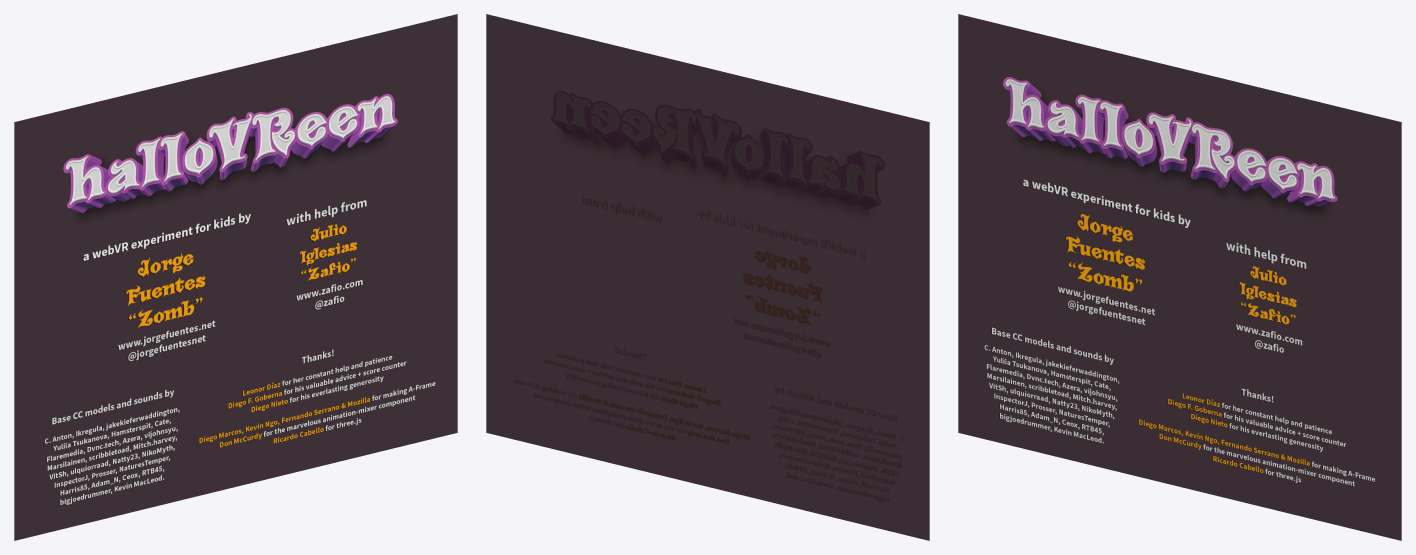
Rendered from ui_credits.gltf.
The picture shows the model from 3 angles, left to right: view 1: azimuth 30°, elevation 25°; view 2: azimuth 150°, elevation 25°; view 3: azimuth 330°, elevation 25°; orthographic projection.
Visible parts, largest first — view 1: Plane.002; view 2: Plane.002; view 3: Plane.002.
Part boxes in pixels (bbox=[...]): Plane.002: bbox=[14, 14, 457, 540]; Plane.002: bbox=[486, 14, 929, 540]; Plane.002: bbox=[958, 14, 1401, 540].
Bounding box in the file's own units: 7.23 × 6.53 × 0.0614.
1 material, 1 textured.
